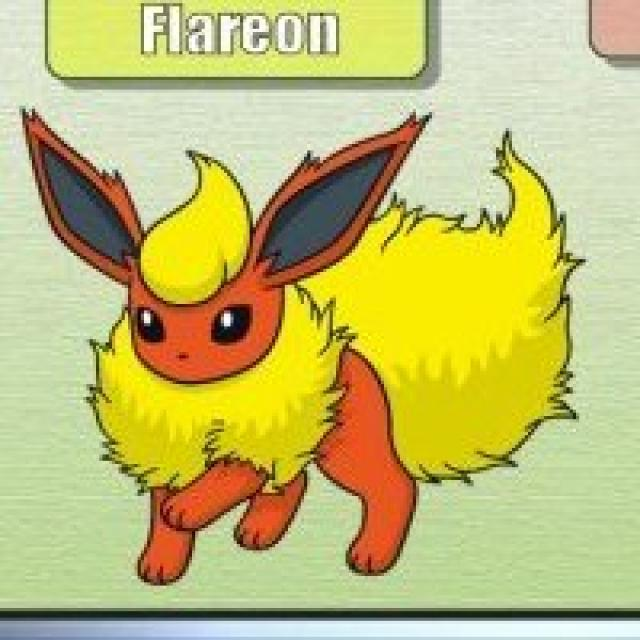Flareon: (26, 109, 447, 586)
